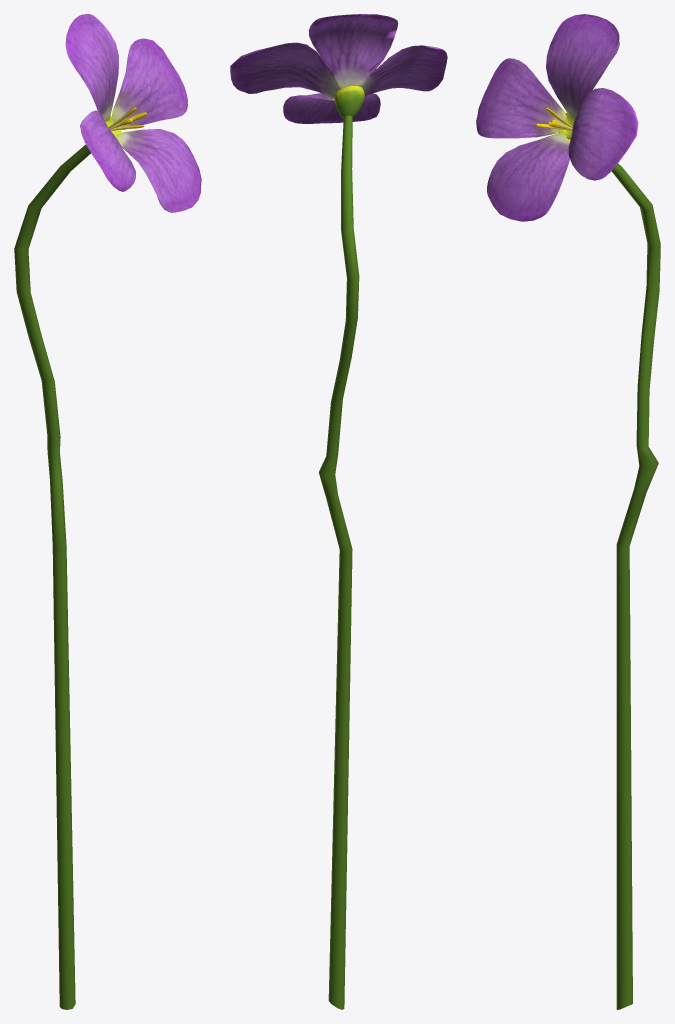
Rendered from Flower1.fbx.
3 renders of one model, left to right at view 1: azimuth 30°, elevation 25°; view 2: azimuth 150°, elevation 25°; view 3: azimuth 270°, elevation 25°, orthographic.
Visible parts, largest first — view 1: node_id31.002; view 2: node_id31.002; view 3: node_id31.002.
Boxes of the visible parts, bbox=[...] form: node_id31.002: bbox=[14, 14, 201, 1009]; node_id31.002: bbox=[230, 14, 447, 1009]; node_id31.002: bbox=[476, 14, 660, 1009].
Size of the model in its own units: 13.81 by 82.77 by 14.01.
